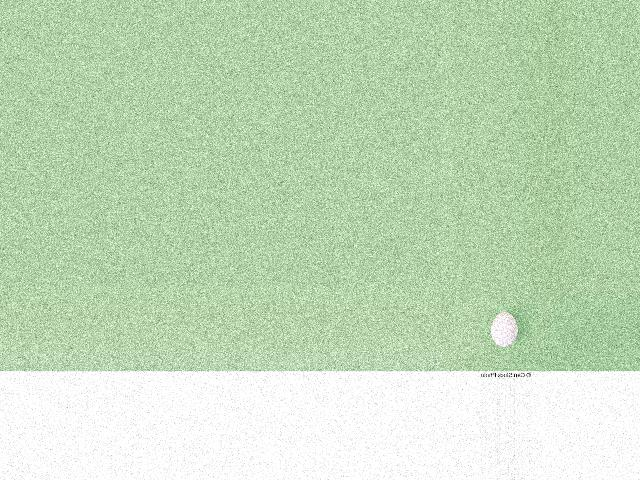egg: (490, 312, 517, 346)
